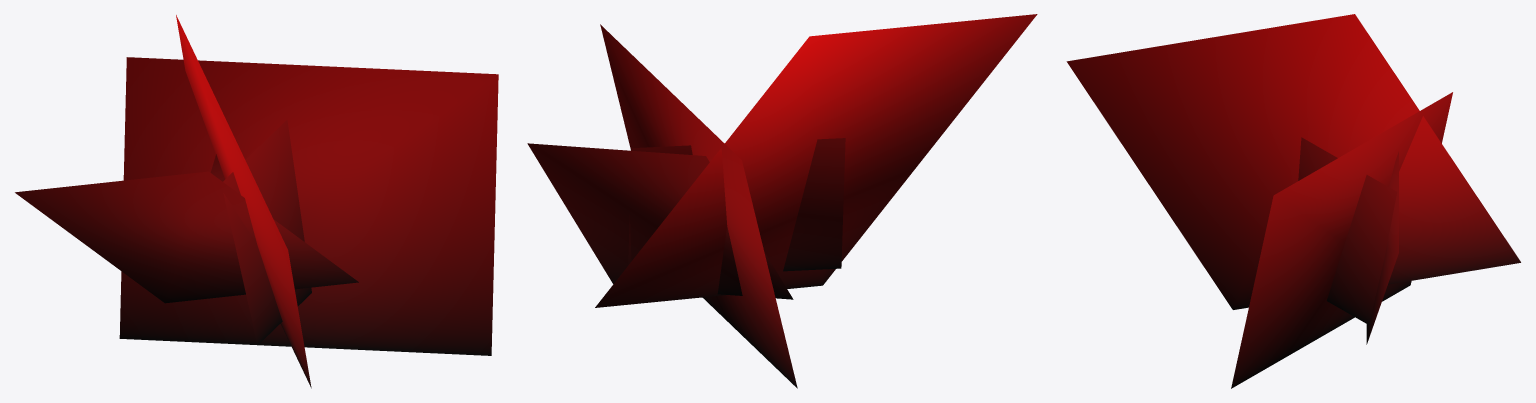
3 renders of one model, left to right at view 1: azimuth 30°, elevation 25°; view 2: azimuth 150°, elevation 25°; view 3: azimuth 270°, elevation 25°, orthographic. The views are drawn at different scales.
Visible parts, largest first — view 1: bladderWrack_001; view 2: bladderWrack_001; view 3: bladderWrack_001.
Part boxes in pixels (left/top/right/bottom): bladderWrack_001: left=15, top=15, right=498, bottom=388; bladderWrack_001: left=527, top=14, right=1037, bottom=388; bladderWrack_001: left=1066, top=14, right=1520, bottom=388.
Size of the model in its own units: 2.19 by 1.8 by 2.66.
